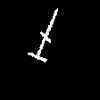double_crochet: (28, 8, 57, 61)
